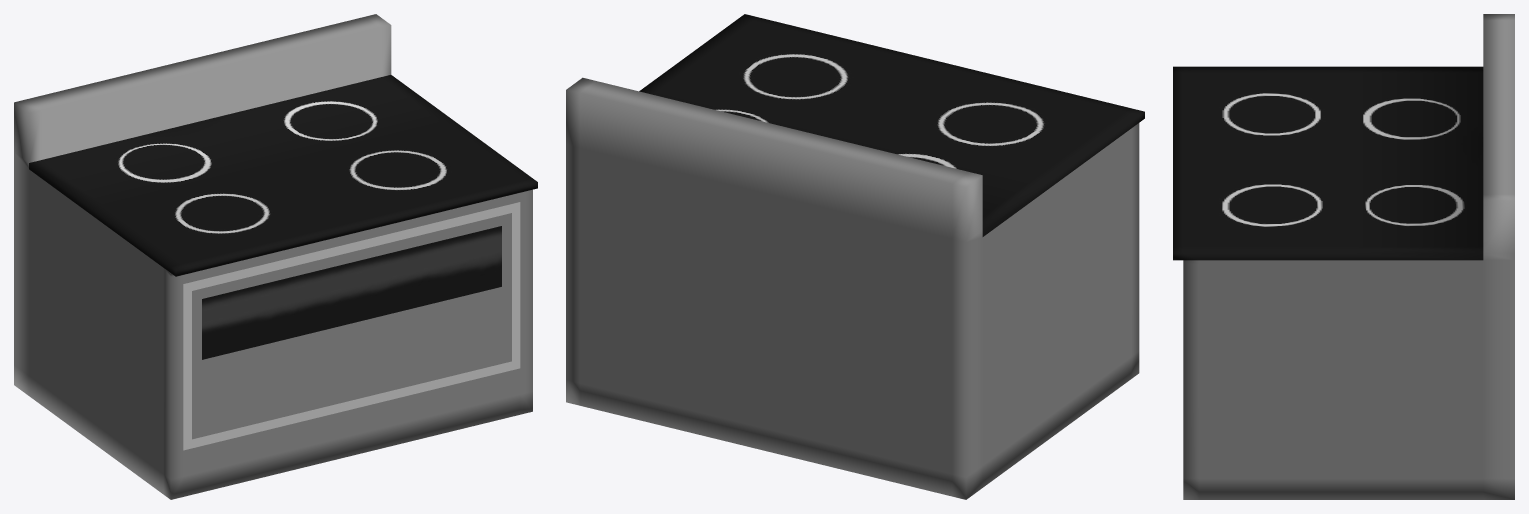
Rendered from KS_Stove.fbx.
3 renders of one model, left to right at view 1: azimuth 30°, elevation 25°; view 2: azimuth 150°, elevation 25°; view 3: azimuth 270°, elevation 25°, orthographic. The views are drawn at different scales.
Parts seen in each view (by area): view 1: KS_Stove; view 2: KS_Stove; view 3: KS_Stove.
Boxes of the visible parts, x1,y1,x2,y2 form: KS_Stove: [14, 14, 537, 499]; KS_Stove: [566, 14, 1144, 499]; KS_Stove: [1173, 14, 1514, 499].
Size of the model in its own units: 200 by 149 by 155.
